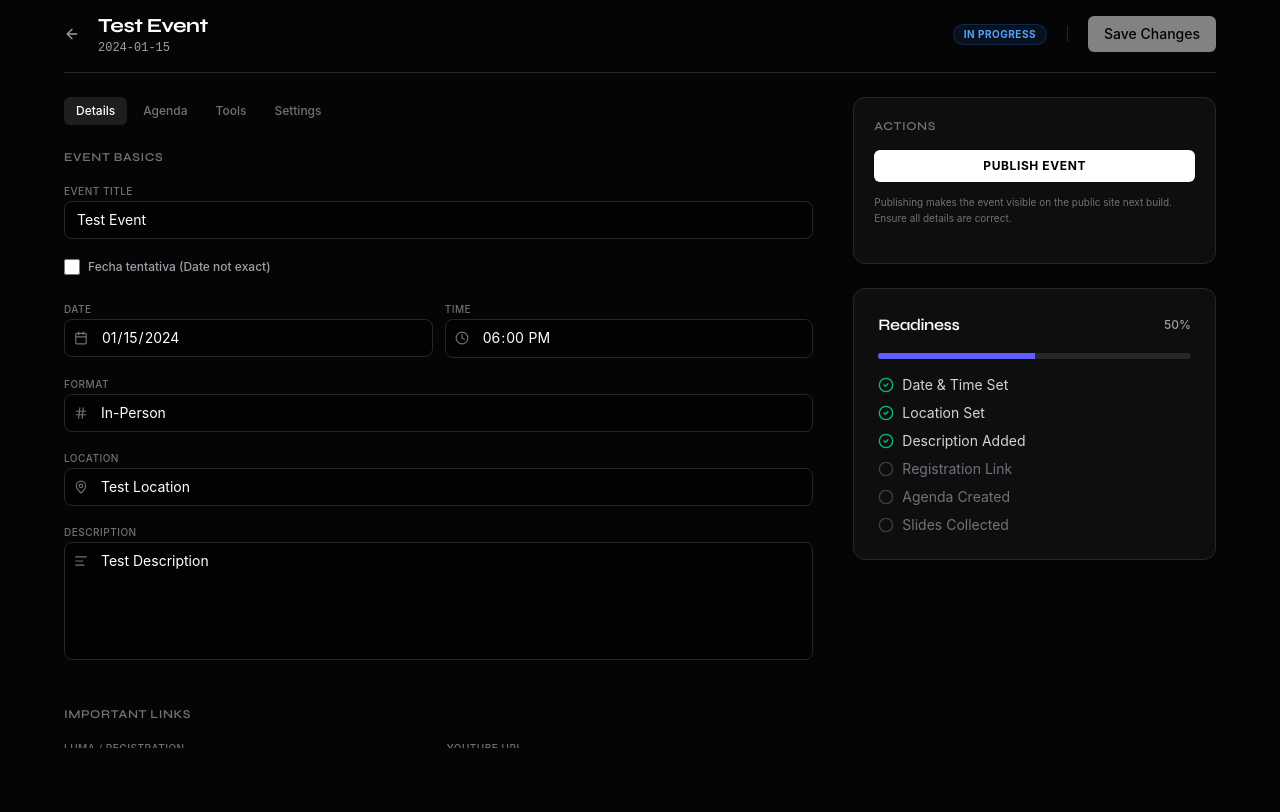
Scenario: EventDetail - Unsaved Changes › should enable save button after making a change
The width and height of the screenshot is (1280, 812).
Expected: the button "Save Changes" is disabled, [1088, 16, 1216, 52]
Make a change to the title
Replace the text in the field showing "Test Event" below "Event Title" with "Updated Event Title" at [439, 220], box [64, 201, 813, 239]
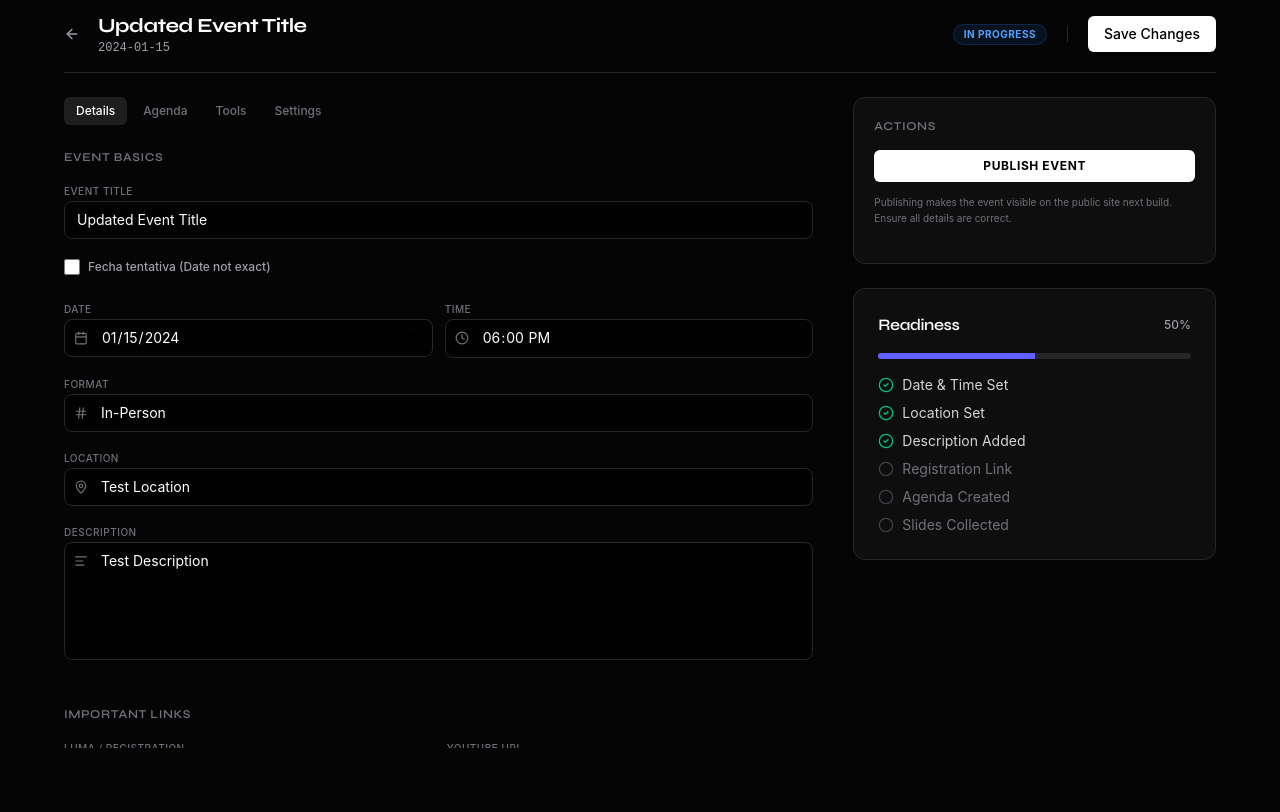
Expected: the button "Save Changes" is enabled, [1088, 16, 1216, 52]
